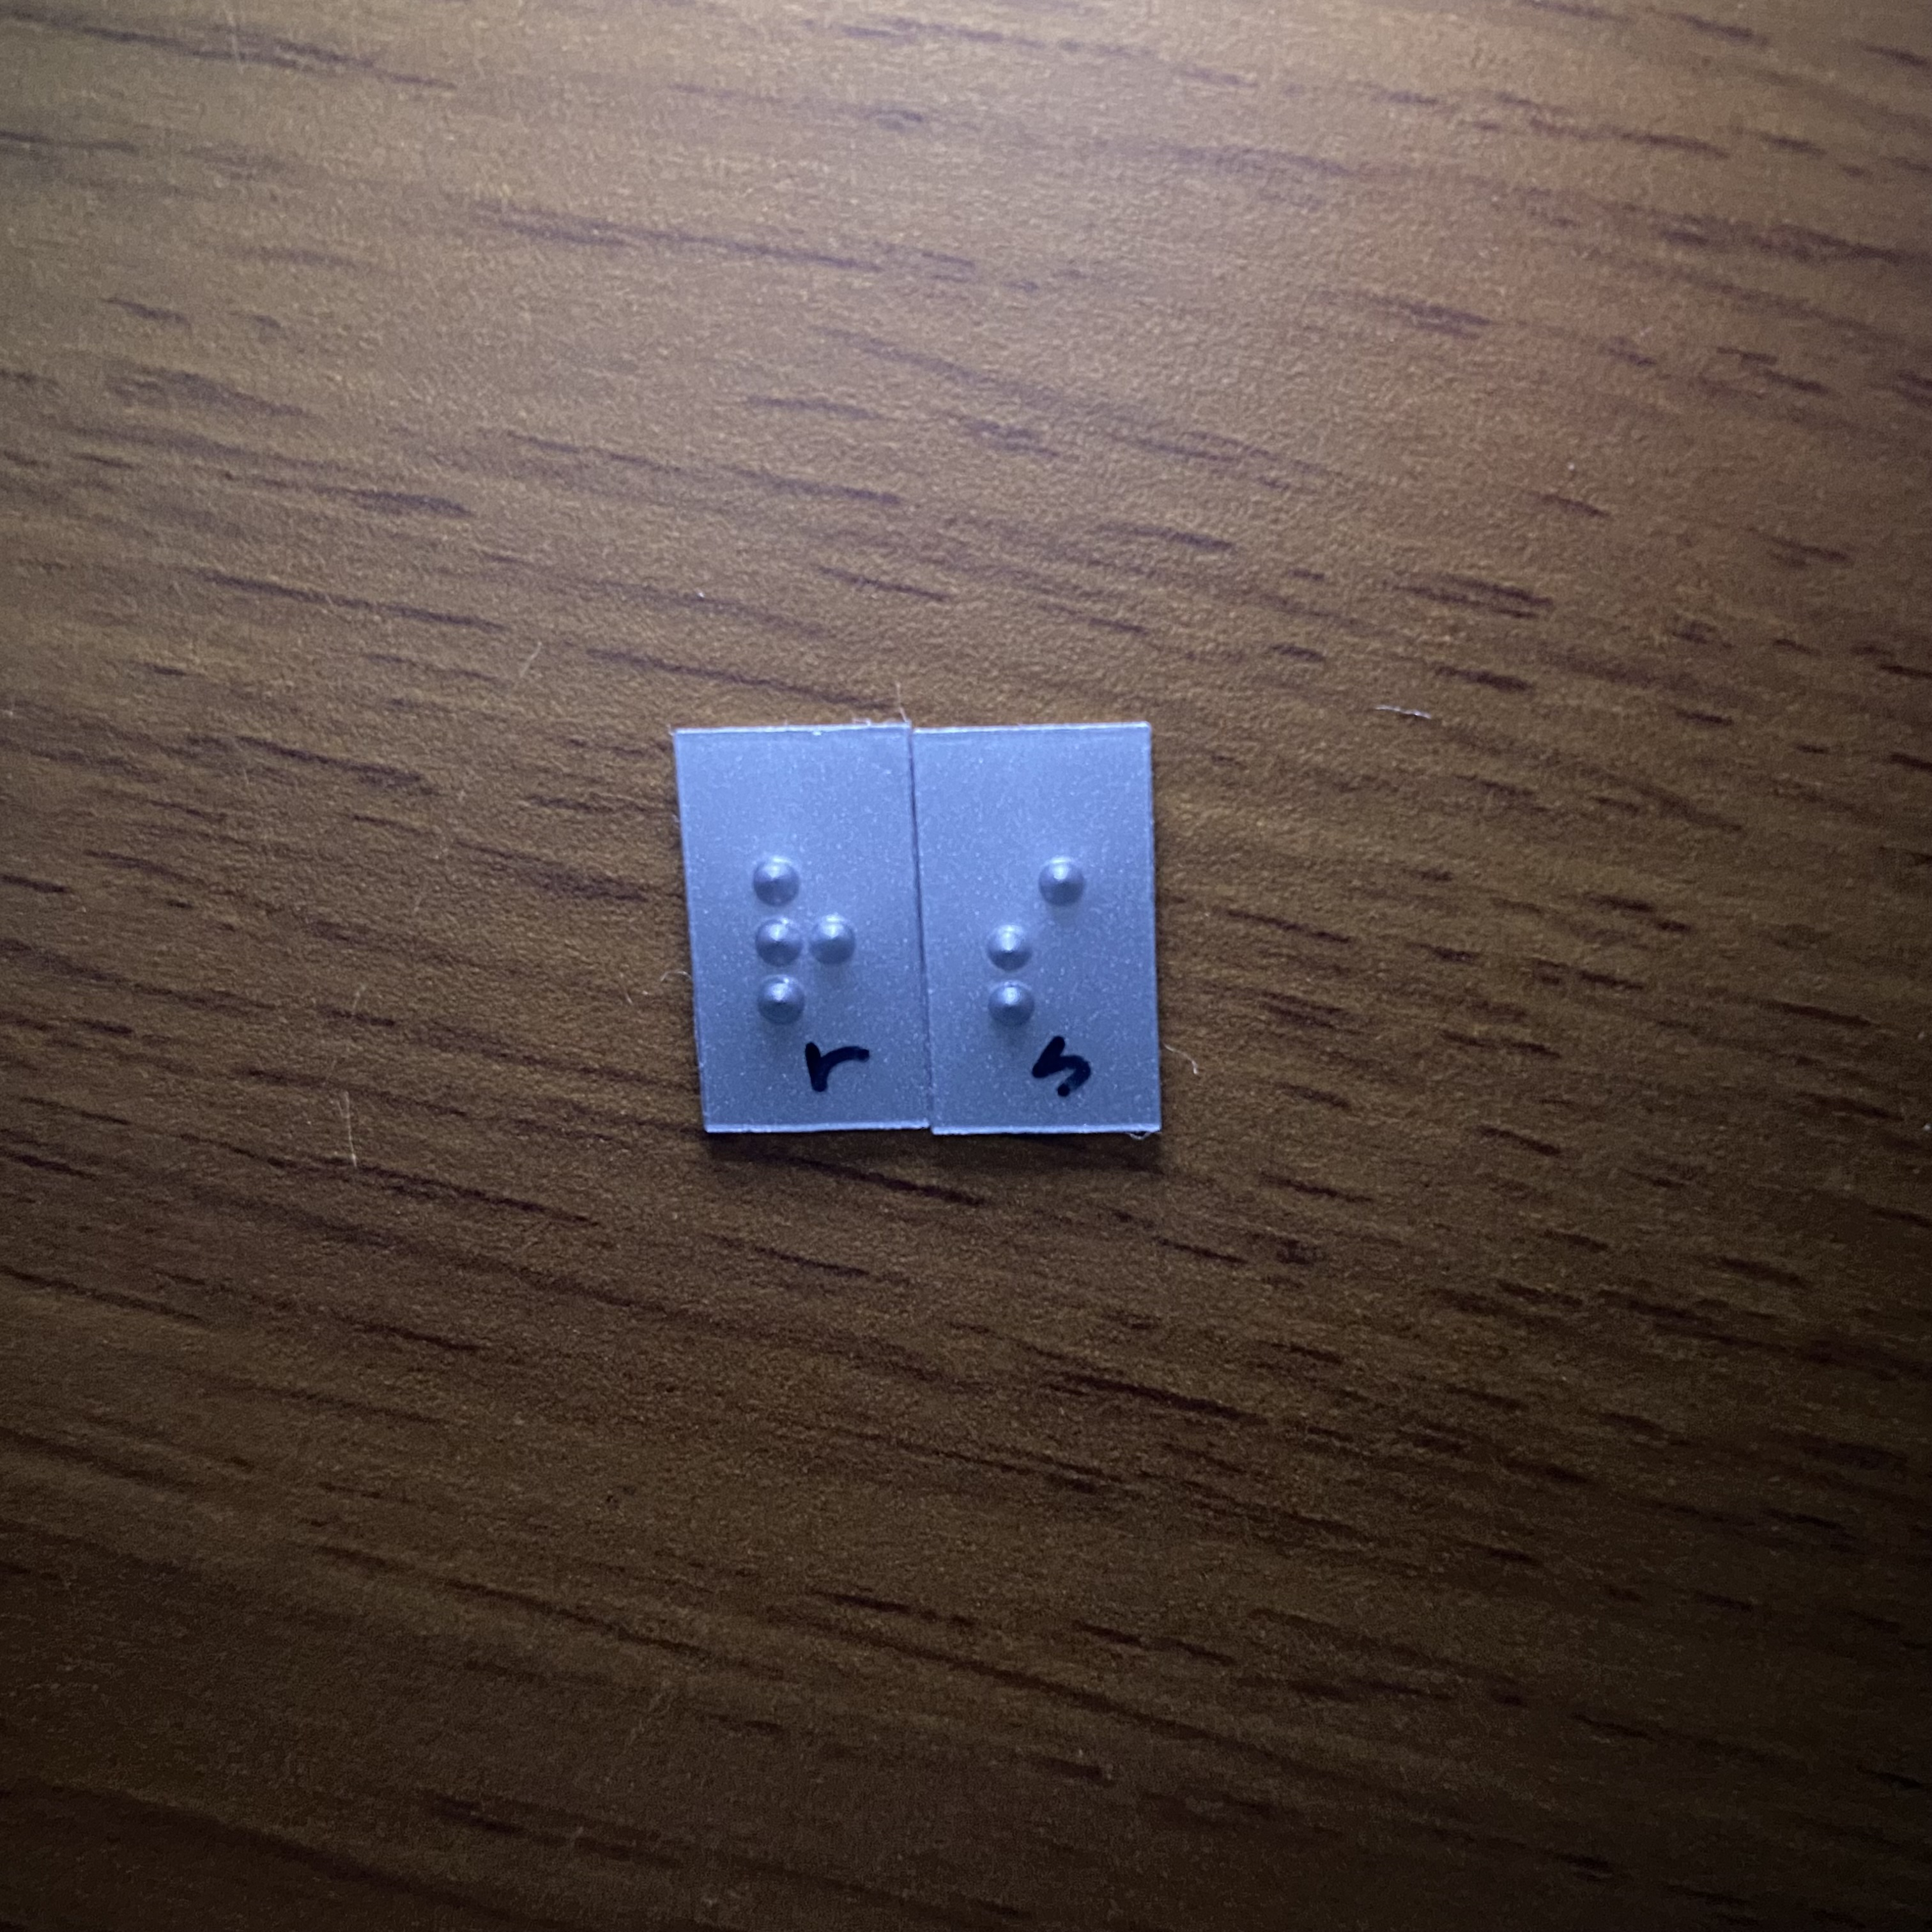r: (728, 839, 884, 1042)
s: (963, 850, 1104, 1038)
